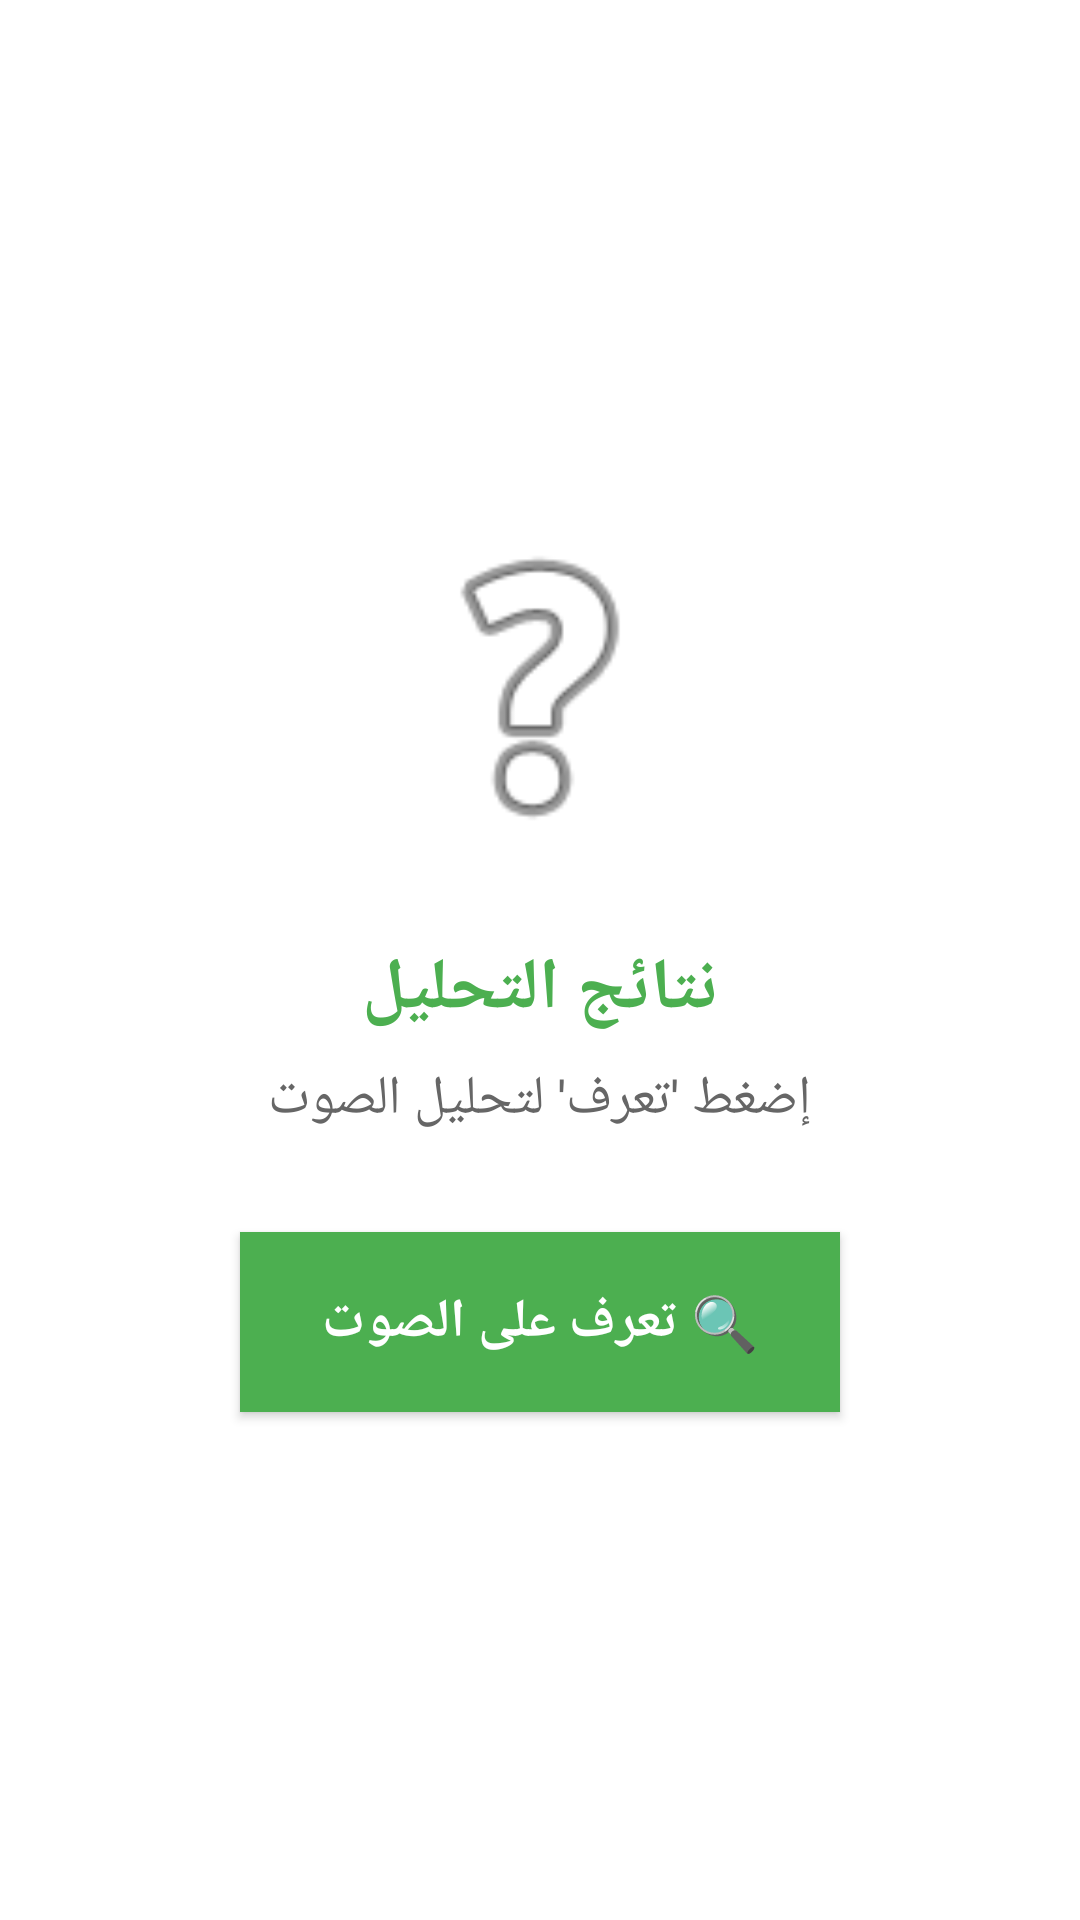

Where icons sit on this 1080 x 1920 app screen, as (x1, y1, x2, y2):
help: (461, 559, 620, 817)
